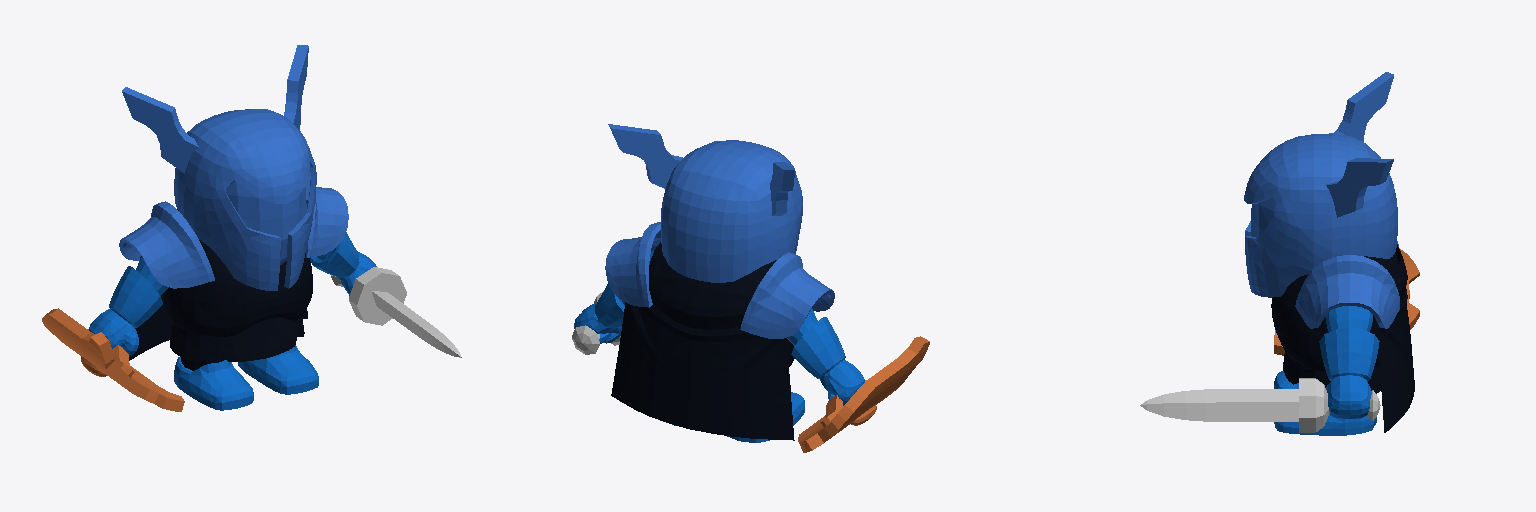
The model's file is samu.obj.
The picture shows the model from 3 angles: view 1: azimuth 30°, elevation 25°; view 2: azimuth 150°, elevation 25°; view 3: azimuth 270°, elevation 25°; orthographic projection.
Visible parts, largest first — view 1: antenna_low__MI_body, body_low__MI_body, arm_low__MI_body, shieldGem_low__MI_shield, swordBlade_low__MI_sword; view 2: antenna_low__MI_body, body_low__MI_body, arm_low__MI_body, shieldGem_low__MI_shield, swordBlade_low__MI_sword; view 3: antenna_low__MI_body, body_low__MI_body, arm_low__MI_body, swordBlade_low__MI_sword, shieldGem_low__MI_shield.
Part boxes in pixels (x1,y1,x2,y2): antenna_low__MI_body: (119,45,348,290); body_low__MI_body: (129,209,312,370); arm_low__MI_body: (89,232,376,410); shieldGem_low__MI_shield: (42,308,184,411); swordBlade_low__MI_sword: (331,267,461,357); antenna_low__MI_body: (605,124,834,338); body_low__MI_body: (611,242,794,440); arm_low__MI_body: (574,250,864,442); shieldGem_low__MI_shield: (798,336,929,452); swordBlade_low__MI_sword: (572,291,620,354); antenna_low__MI_body: (1244,72,1399,328); body_low__MI_body: (1271,244,1414,432); arm_low__MI_body: (1274,306,1379,435); swordBlade_low__MI_sword: (1140,378,1380,432); shieldGem_low__MI_shield: (1274,248,1419,355).
Size of the model in its own units: 0.0511 by 0.0441 by 0.0385.